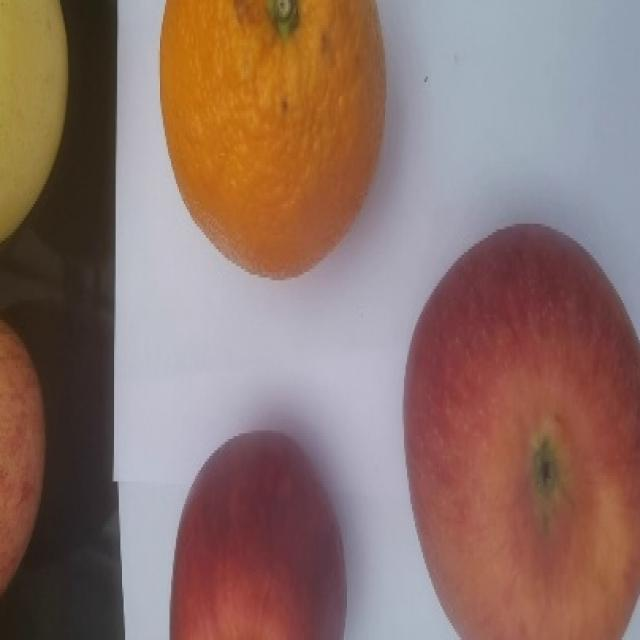Apple: (398, 220, 640, 640), (166, 426, 351, 640), (0, 317, 49, 604)
Orange: (160, 0, 390, 284)
